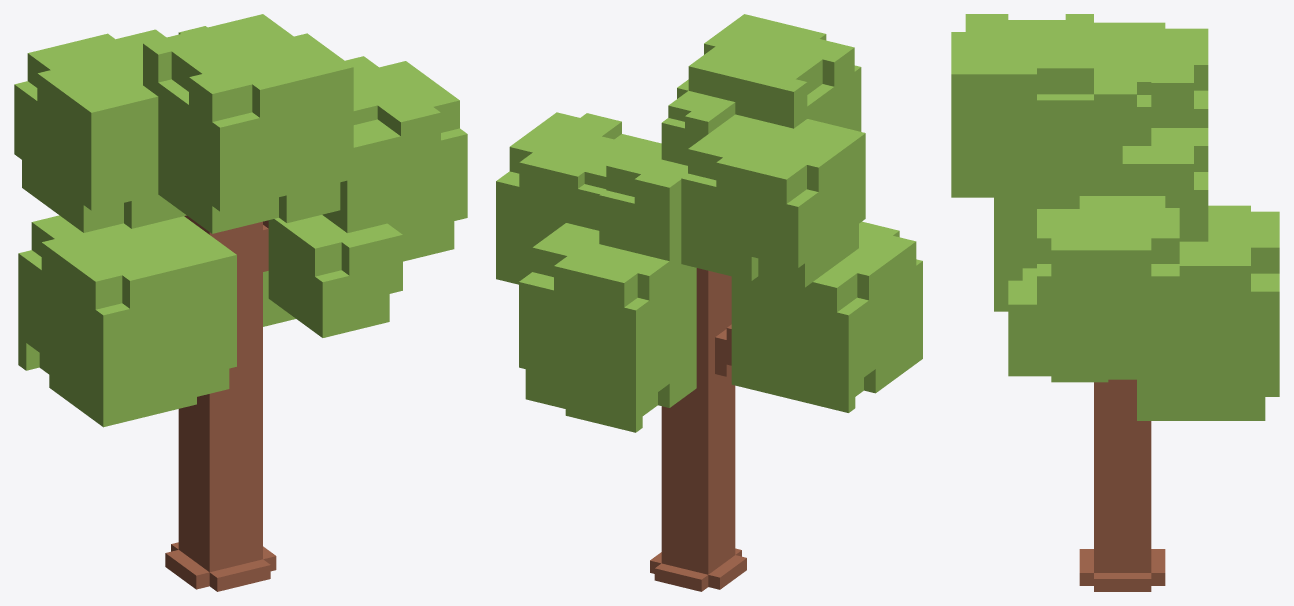
The model's file is village_tree_1.glb.
3 renders of one model, left to right at view 1: azimuth 30°, elevation 25°; view 2: azimuth 150°, elevation 25°; view 3: azimuth 270°, elevation 25°, orthographic. The views are drawn at different scales.
Parts seen in each view (by area): view 1: village_tree_1; view 2: village_tree_1; view 3: village_tree_1.
Part boxes in pixels (x1,y1,x2,y2): village_tree_1: (14,14,467,591); village_tree_1: (496,14,922,591); village_tree_1: (951,14,1279,591).
Bounding box in the file's own units: 2.9 × 4 × 2.3.
1 material, 1 textured.
